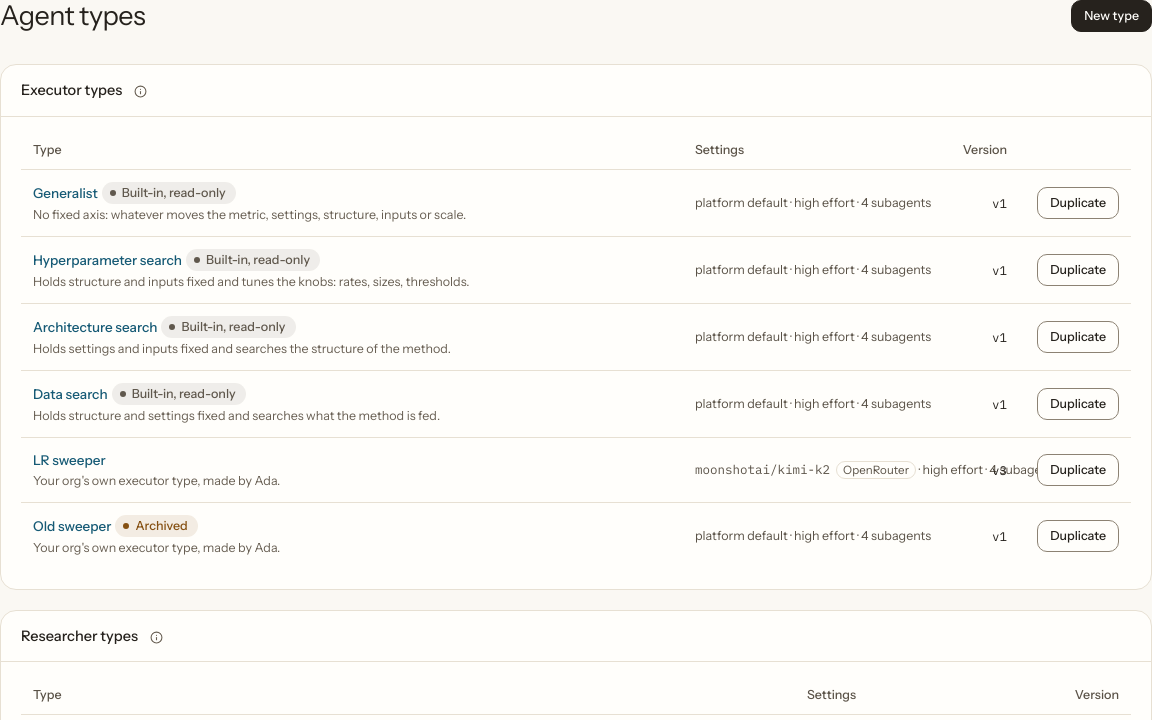
Test case: the agent types page › shows the API's refusal of a copy
The image size is (1152, 720).
Click the button "Duplicate" in the row of "Generalist" at x=1078, y=203, box left=1037, top=187, right=1119, bottom=219
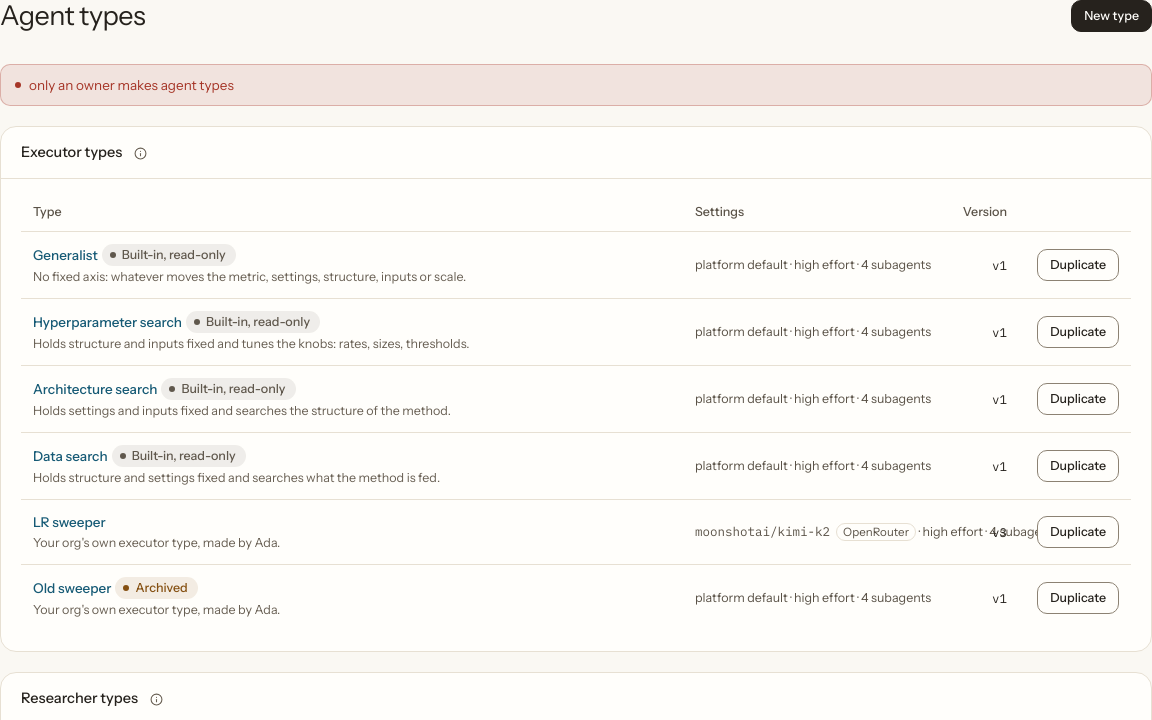
Now the text "only an owner makes agent types" is shown, box left=29, top=75, right=234, bottom=95
